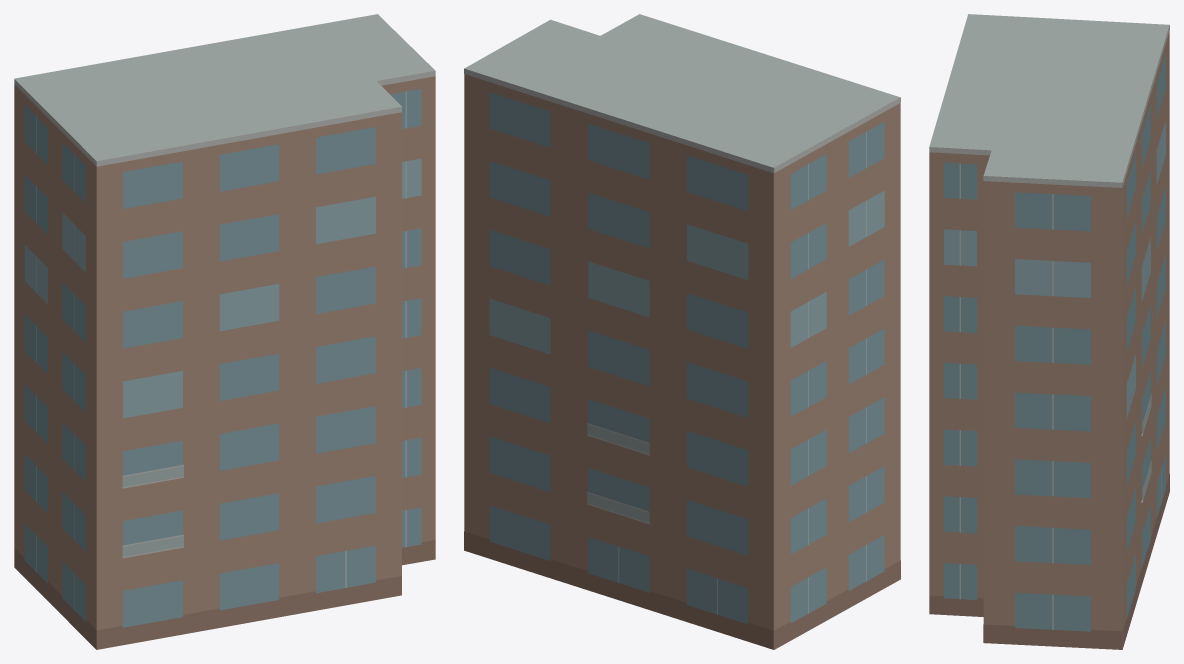
Rendered from survey-upis-32918944.glb.
The picture shows the model from 3 angles, left to right: view 1: azimuth 30°, elevation 25°; view 2: azimuth 150°, elevation 25°; view 3: azimuth 270°, elevation 25°; orthographic projection. The views are drawn at different scales.
Visible parts, largest first — view 1: survey-upis-32918944.tmp; view 2: survey-upis-32918944.tmp; view 3: survey-upis-32918944.tmp.
Boxes of the visible parts, x1=… form: survey-upis-32918944.tmp: x1=14, y1=14, x2=435, y2=649; survey-upis-32918944.tmp: x1=464, y1=14, x2=900, y2=649; survey-upis-32918944.tmp: x1=929, y1=14, x2=1169, y2=649.
Size of the model in its own units: 16.98 by 21.9 by 10.23.
